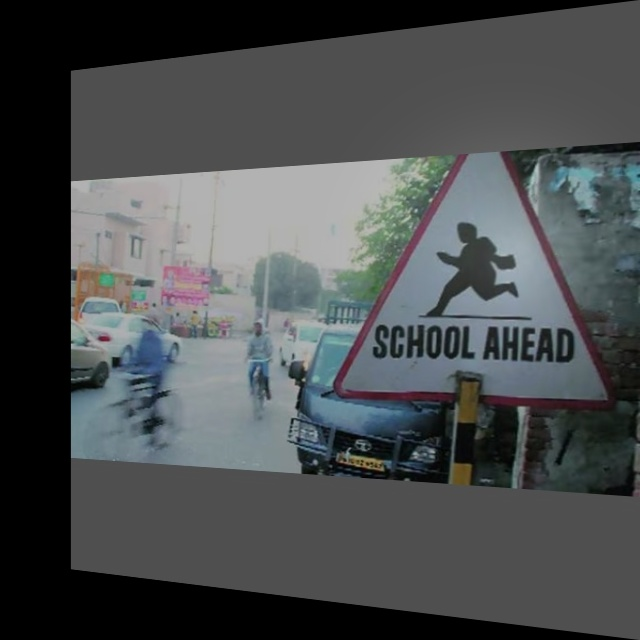School_Ahead: (359, 171, 596, 384)
